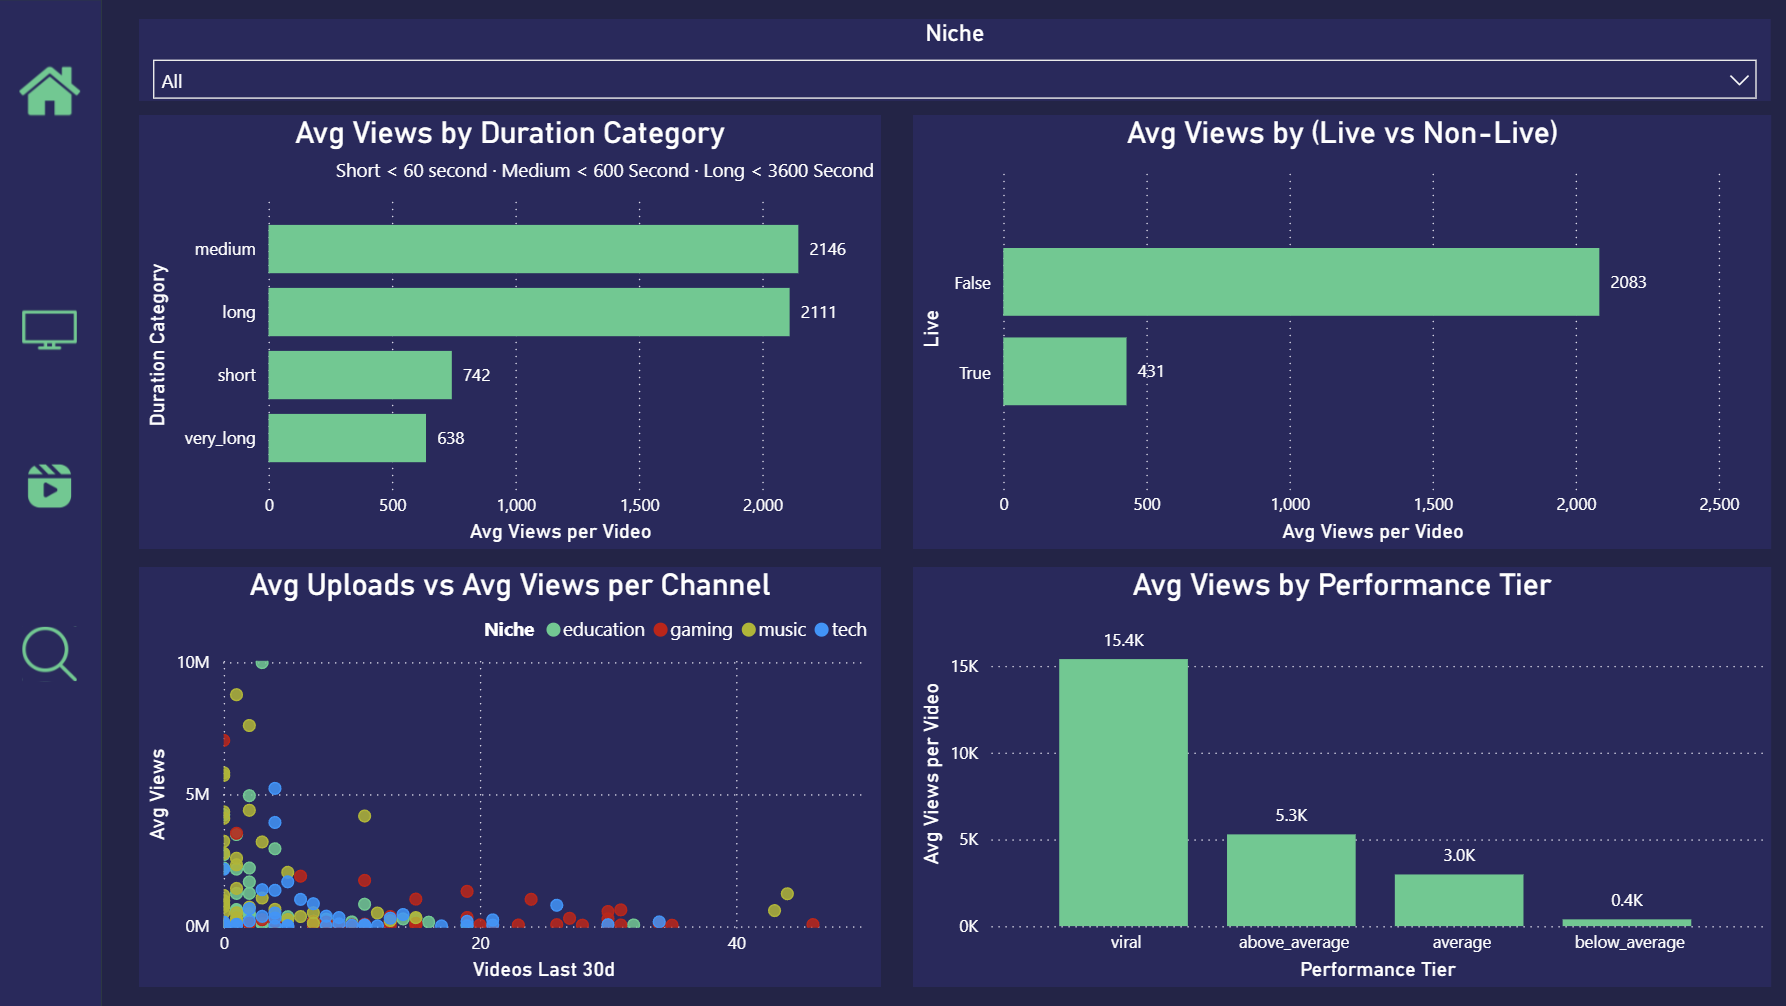

Layout of this report page (visuals, bound fields, positions):
{"tool":"powerbi","page":{"name":"Content Strategy","canvas":[1280,720],"ordinal":3},"visuals":[{"type":"shape","box":[0,0,75.2,720.3],"z":0},{"type":"actionButton","box":[0,212.9,75.2,47.2],"z":1},{"type":"actionButton","box":[0,323.8,75.2,47.2],"z":2},{"type":"actionButton","box":[0,443.7,75.2,47.2],"z":3},{"type":"clusteredBarChart","title":"Avg Views by Duration Category","fields":{"Category":["fct_video_performance.duration_category"],"Y":["fct_video_performance.Avg Views per Video"]},"box":[101.4,82.9,530,310],"z":4},{"type":"scatterChart","title":"Avg Uploads vs Avg Views per Channel","fields":{"X":["Sum(agg_channel_metrics.videos_last_30d)"],"Y":["Avg(agg_channel_metrics.avg_views)"],"Category":["dim_channels.channel_name"],"Series":["dim_channels.niche"]},"box":[101.4,405.7,530,300],"z":5},{"type":"clusteredColumnChart","title":"Avg Views by Performance Tier","fields":{"Category":["fct_video_performance.performance_tier"],"Y":["fct_video_performance.Avg Views per Video"]},"box":[654.3,405.7,612.9,300],"z":6},{"type":"slicer","title":"Niche","fields":{"Values":["dim_channels.niche"]},"box":[101.4,14.3,1165.7,58.6],"z":7},{"type":"clusteredBarChart","title":"Avg Views by (Live vs Non-Live)","fields":{"Y":["fct_video_performance.Avg Views per Video"],"Category":["fct_video_performance.was_live"]},"box":[654.3,82.9,612.9,310],"z":8},{"type":"actionButton","box":[0,40,75.7,51.4],"z":9}]}

Visuals, with their boxes on the page's 1280x720 design canvas (x1, y1, x2, y2). These are canvas units, not pixel positions in the 1786x1006 screenshot, which may show the page scaled, cropped or inside an application window:
shape: x1=0, y1=0, x2=75, y2=720
actionButton: x1=0, y1=213, x2=75, y2=260
actionButton: x1=0, y1=324, x2=75, y2=371
actionButton: x1=0, y1=444, x2=75, y2=491
"Avg Views by Duration Category" clusteredBarChart: x1=101, y1=83, x2=631, y2=393
"Avg Uploads vs Avg Views per Channel" scatterChart: x1=101, y1=406, x2=631, y2=706
"Avg Views by Performance Tier" clusteredColumnChart: x1=654, y1=406, x2=1267, y2=706
"Niche" slicer: x1=101, y1=14, x2=1267, y2=73
"Avg Views by (Live vs Non-Live)" clusteredBarChart: x1=654, y1=83, x2=1267, y2=393
actionButton: x1=0, y1=40, x2=76, y2=91
